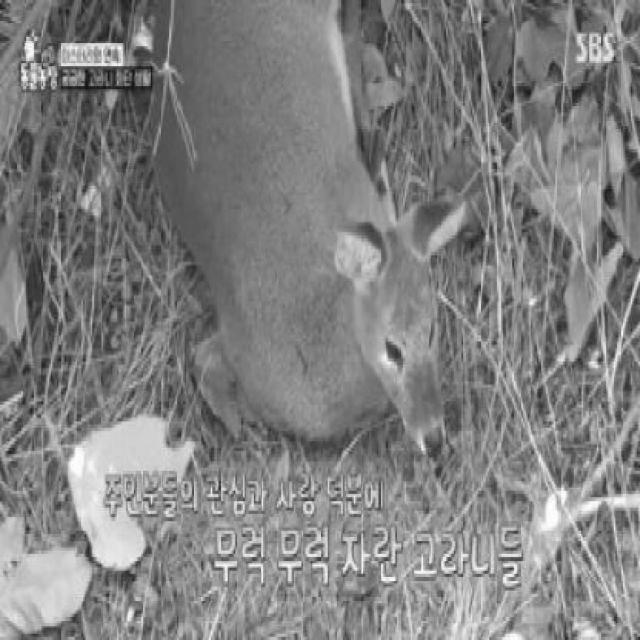Deer: (145, 0, 469, 464)
